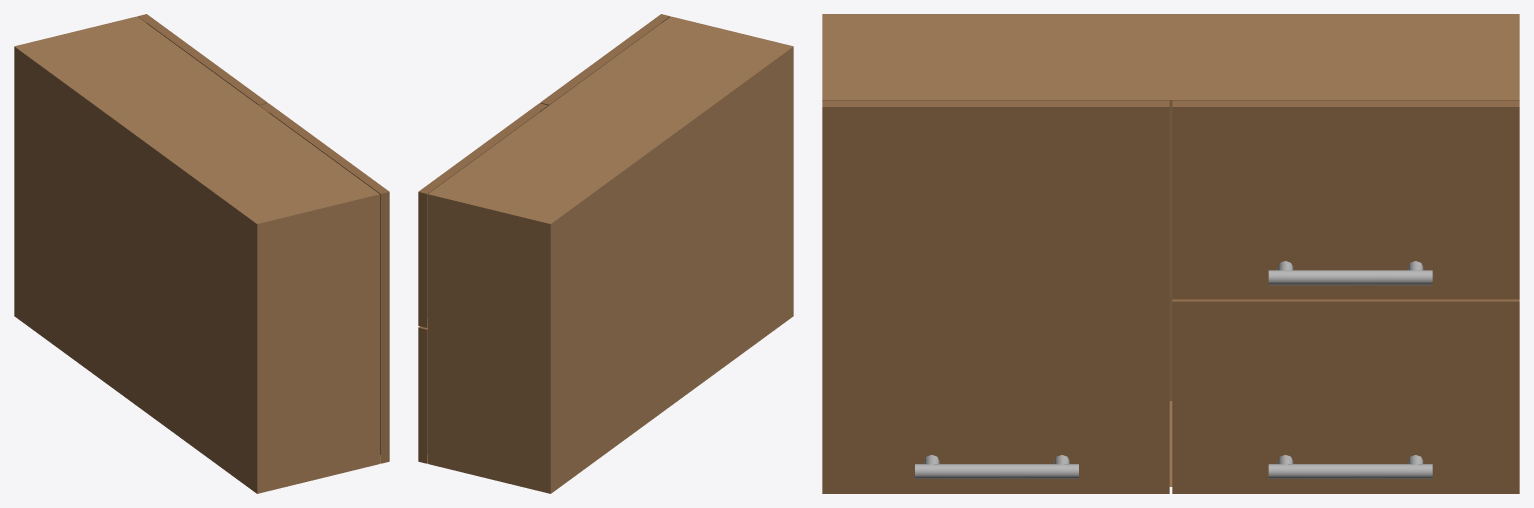
The model's file is kitchen_shelf_2.FBX.
3 renders of one model, left to right at view 1: azimuth 30°, elevation 25°; view 2: azimuth 150°, elevation 25°; view 3: azimuth 270°, elevation 25°, orthographic. The views are drawn at different scales.
Visible parts, largest first — view 1: kitchen_shelf_2; view 2: kitchen_shelf_2; view 3: kitchen_shelf_2.
Part boxes in pixels (bbox=[...]): kitchen_shelf_2: bbox=[14, 14, 389, 493]; kitchen_shelf_2: bbox=[418, 14, 793, 493]; kitchen_shelf_2: bbox=[822, 14, 1519, 493].
Size of the model in its own units: 0.3726 by 0.6301 by 1.03.
